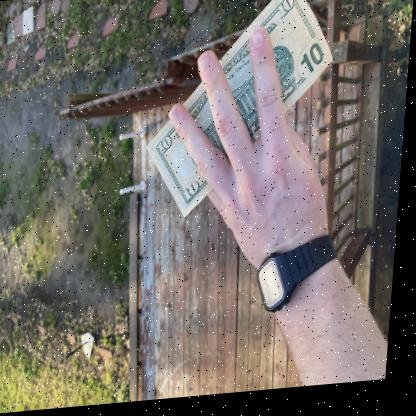ten-back: (143, 0, 333, 214)
